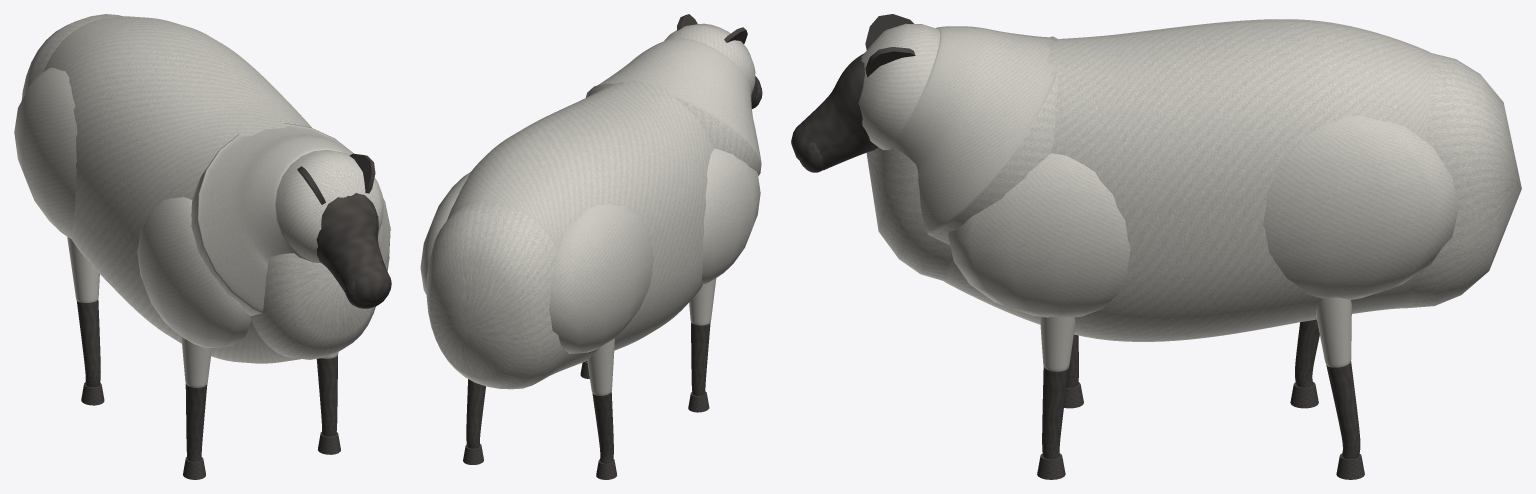
The model's file is farm-and-working-animals-hd-sheep-6aabd4f9.glb.
3 views of the same model, side by side, from view 1: azimuth 30°, elevation 25°; view 2: azimuth 150°, elevation 25°; view 3: azimuth 270°, elevation 25° (orthographic). The views are drawn at different scales.
Visible parts, largest first — view 1: sheep; view 2: sheep; view 3: sheep.
Part boxes in pixels (left/top/right/bottom): sheep: left=14, top=14, right=391, bottom=479; sheep: left=420, top=14, right=762, bottom=479; sheep: left=791, top=14, right=1521, bottom=479.
Size of the model in its own units: 0.5292 by 0.862 by 1.4.
2 materials, 2 textured.
